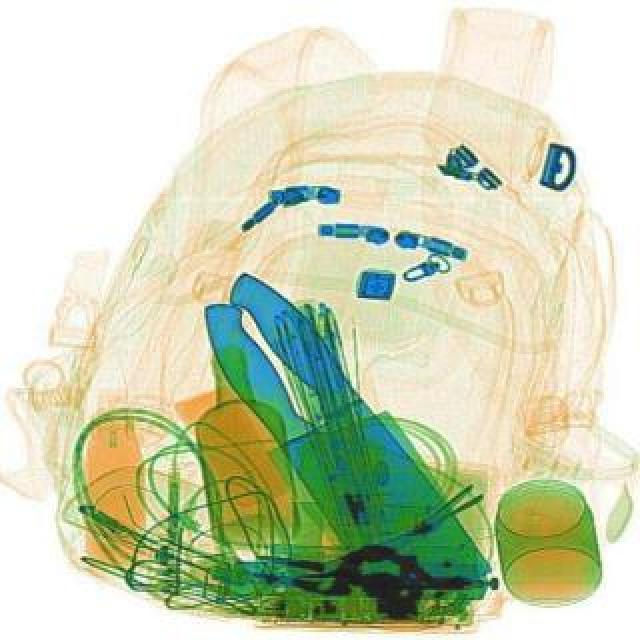knife: (166, 260, 496, 634), (182, 260, 498, 628)
